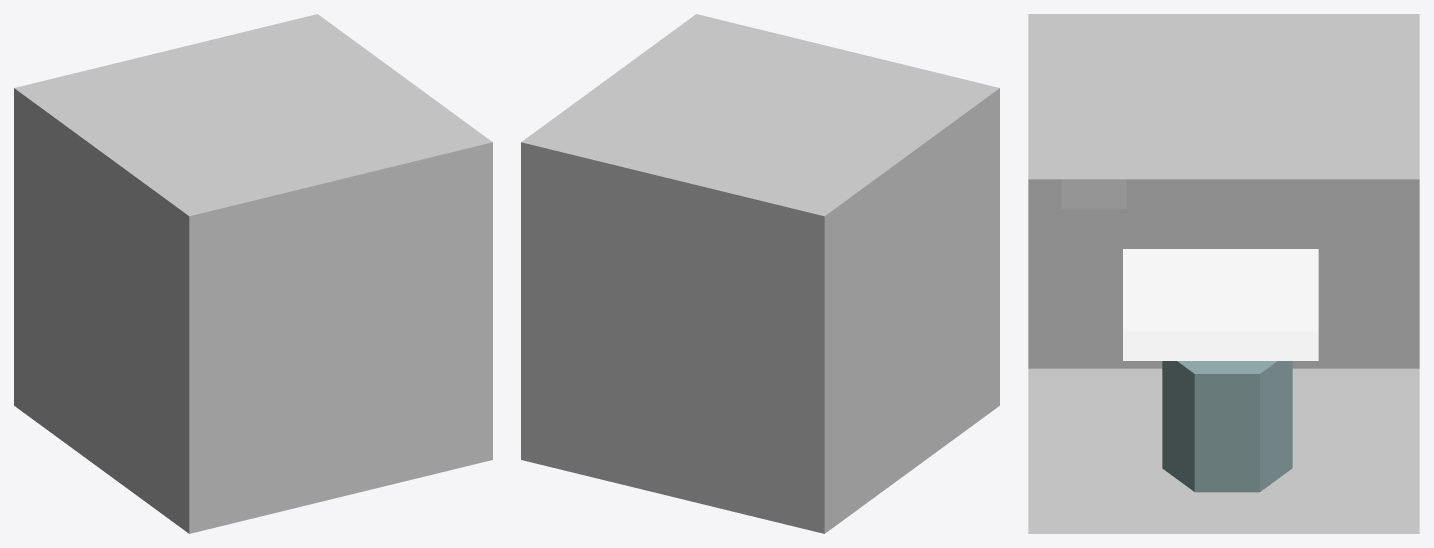
Rendered from tutorial.gltf.
The picture shows the model from 3 angles, left to right: view 1: azimuth 30°, elevation 25°; view 2: azimuth 150°, elevation 25°; view 3: azimuth 270°, elevation 25°; orthographic projection. The views are drawn at different scales.
Visible parts, largest first — view 1: Cube; view 2: Cube; view 3: Cube, Tampo, Cylinder, Cube.001.
Boxes of the visible parts, box(x1,y1,x2,y2) form: Cube: box(14, 14, 492, 533); Cube: box(521, 14, 999, 533); Cube: box(1028, 14, 1419, 533); Tampo: box(1123, 249, 1318, 360); Cylinder: box(1162, 361, 1292, 492); Cube.001: box(1061, 179, 1126, 208).
Bounding box in the file's own units: 6 × 6 × 6.
